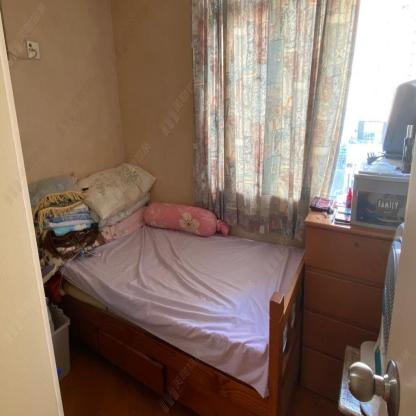Bed: (22, 147, 305, 415)
